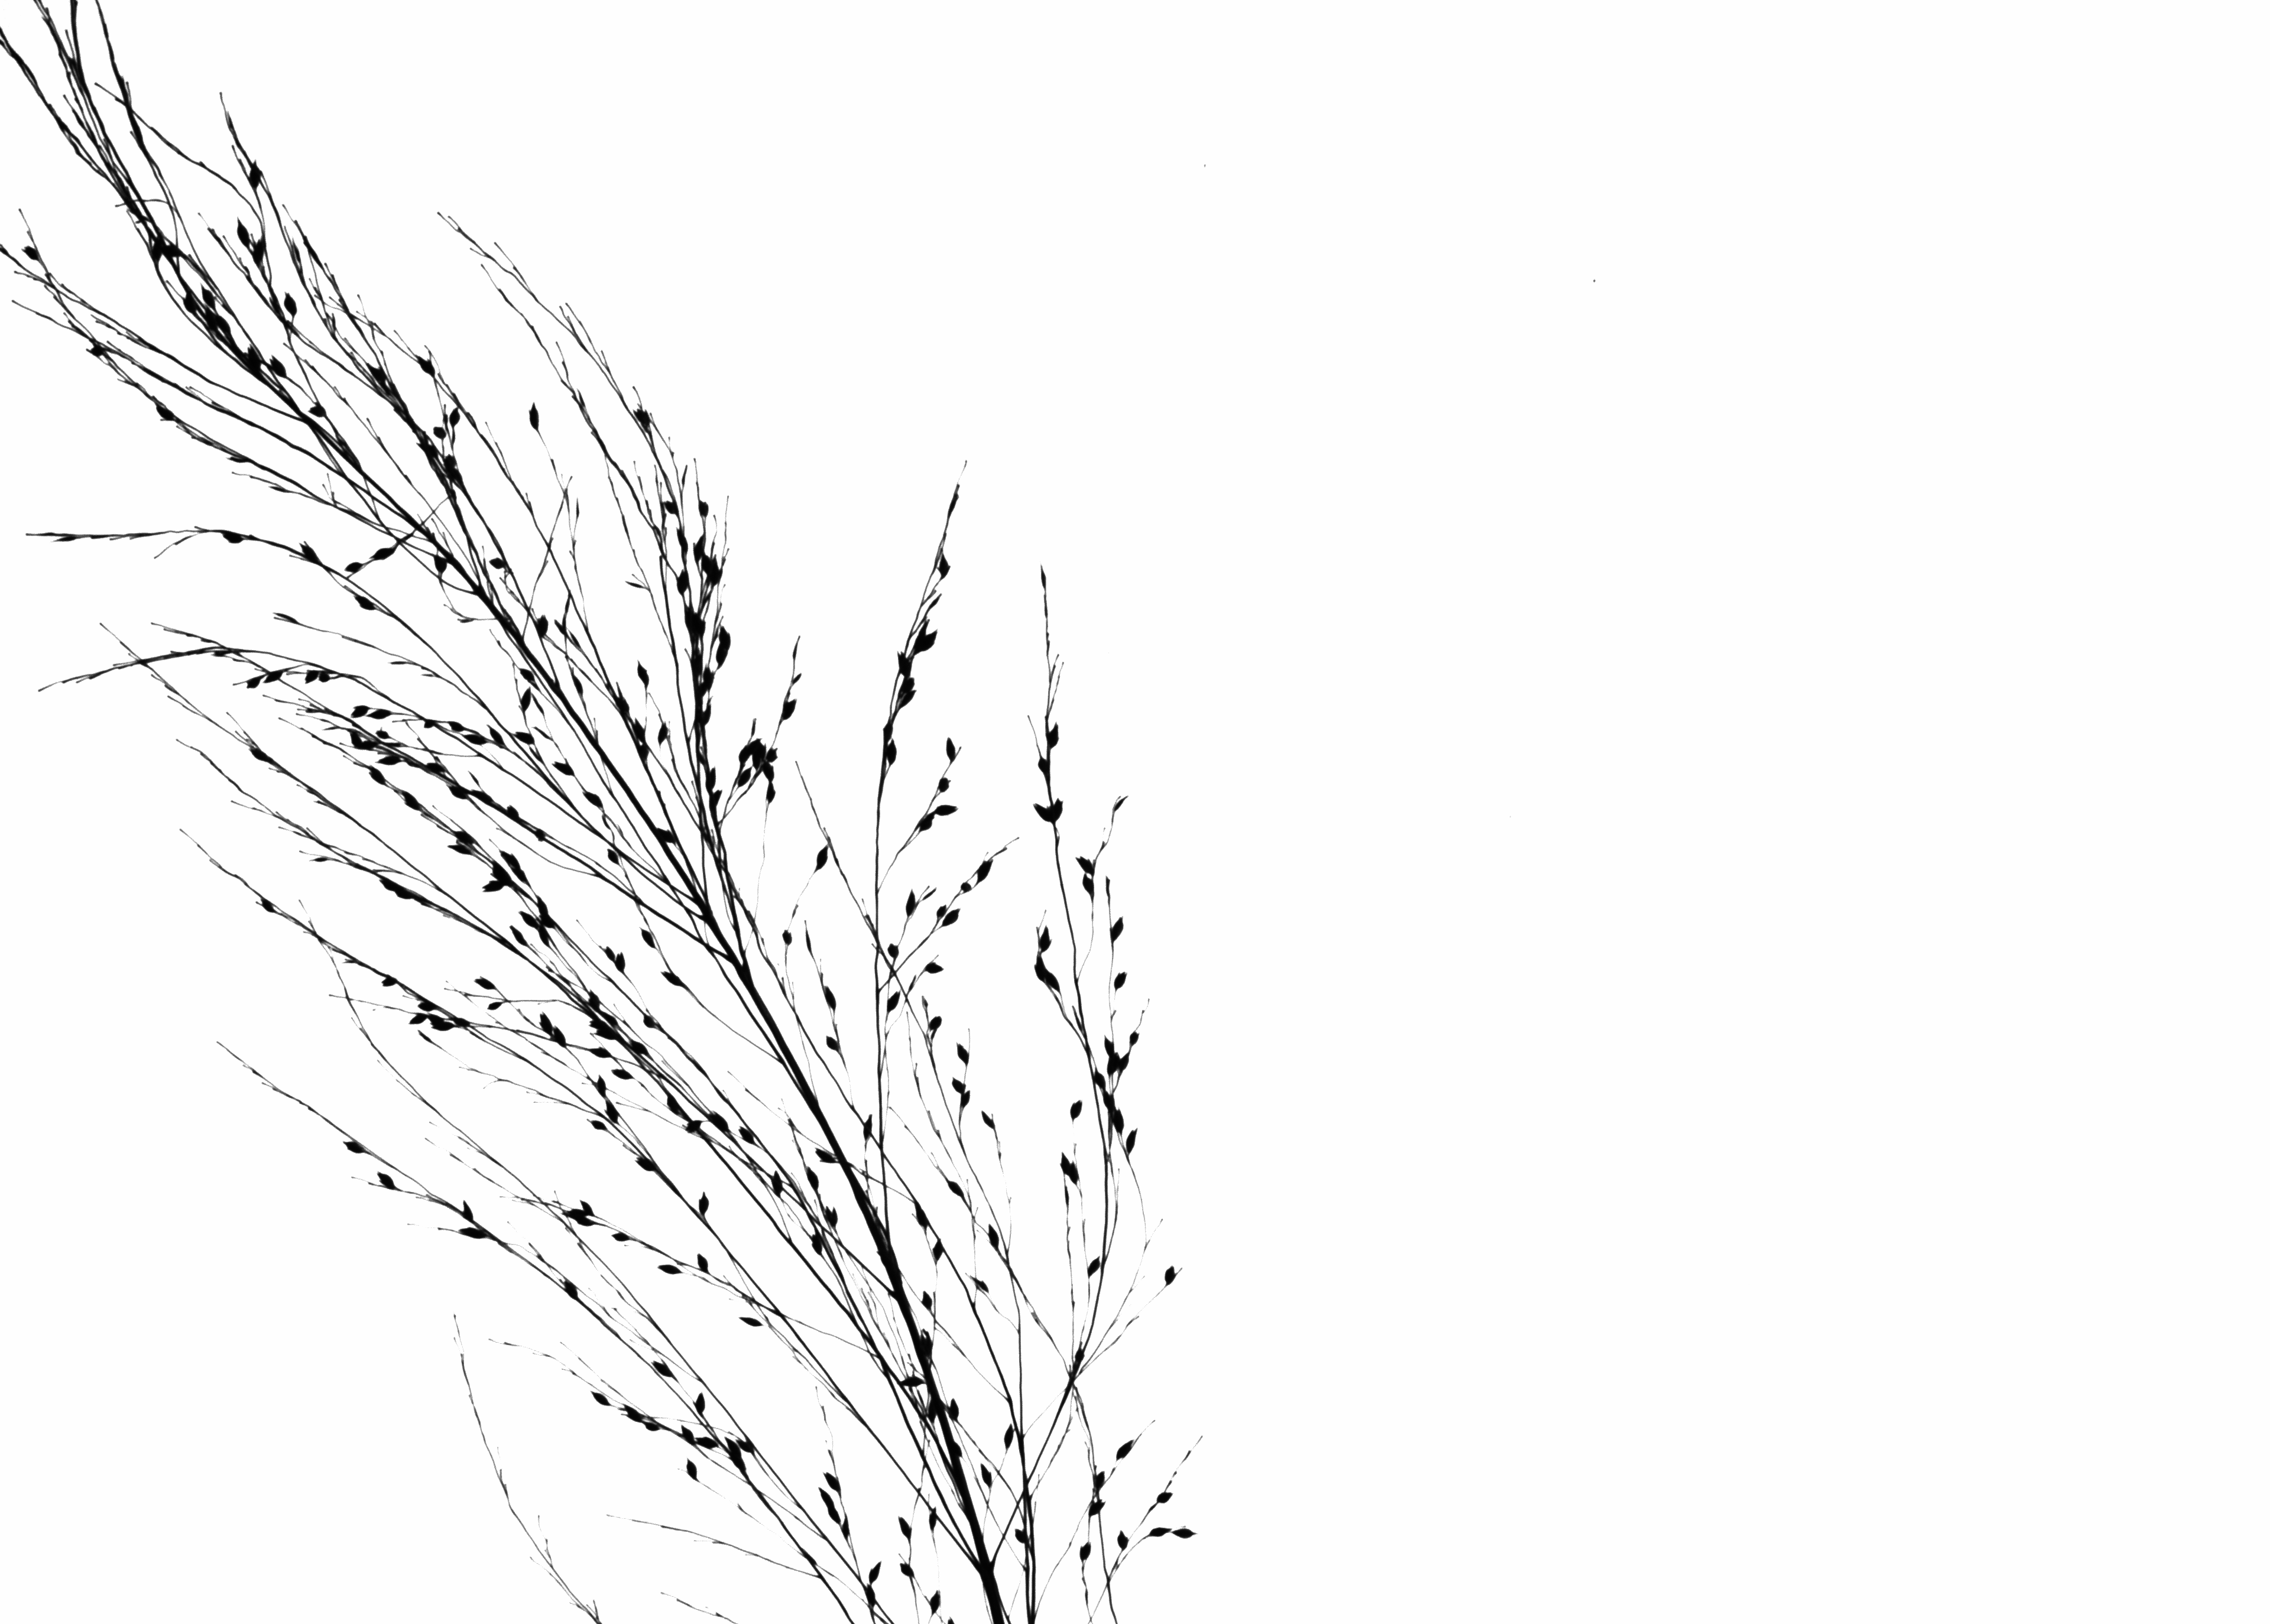seed: (441, 450, 466, 496), (1030, 961, 1062, 995), (213, 524, 251, 550), (612, 678, 635, 722), (628, 657, 656, 689), (375, 1169, 403, 1199), (918, 1318, 939, 1357), (911, 617, 932, 656), (411, 352, 440, 380), (658, 965, 688, 991), (246, 155, 266, 195), (232, 213, 251, 251), (295, 536, 322, 564), (153, 402, 183, 427), (429, 545, 452, 576), (149, 228, 167, 269), (367, 359, 389, 392), (18, 244, 51, 265), (629, 404, 656, 431), (654, 823, 679, 851), (1115, 1434, 1138, 1464), (485, 721, 506, 752), (352, 594, 383, 615), (649, 1359, 675, 1383), (211, 313, 236, 339), (665, 1091, 688, 1120), (976, 858, 999, 886), (281, 286, 299, 322), (271, 610, 302, 629), (563, 1274, 582, 1306), (909, 1197, 928, 1229), (821, 982, 840, 1014), (967, 1272, 992, 1297), (821, 1471, 846, 1496), (916, 629, 941, 654), (942, 1174, 965, 1200), (1111, 967, 1132, 995), (1108, 916, 1129, 944), (162, 244, 190, 265), (672, 564, 689, 598), (695, 1183, 710, 1220), (179, 292, 199, 322), (197, 281, 216, 311), (253, 236, 267, 276), (709, 1106, 731, 1130), (633, 1153, 658, 1176), (897, 689, 920, 714), (517, 661, 540, 685), (267, 355, 290, 380), (506, 923, 527, 949), (862, 1111, 877, 1146), (679, 1422, 700, 1448), (895, 1373, 927, 1390), (1145, 1520, 1171, 1541), (1125, 1125, 1143, 1156), (1037, 923, 1055, 954), (578, 789, 605, 810), (550, 758, 577, 779), (471, 975, 499, 995), (1090, 1466, 1110, 1494), (897, 673, 916, 701), (568, 670, 587, 698), (457, 1225, 491, 1241), (526, 397, 542, 431), (805, 1164, 823, 1193), (978, 1461, 995, 1490), (942, 733, 960, 763), (443, 842, 473, 859), (717, 624, 735, 654), (517, 909, 540, 932), (591, 1387, 614, 1410), (816, 1485, 839, 1508), (942, 905, 965, 928), (499, 847, 522, 870), (621, 1399, 642, 1424), (626, 1035, 651, 1056), (401, 791, 426, 812), (587, 1042, 614, 1062), (341, 1137, 367, 1156), (682, 1455, 702, 1482), (1113, 1526, 1132, 1552), (1067, 1098, 1087, 1125), (884, 988, 904, 1014), (1032, 754, 1051, 780), (302, 401, 329, 420), (985, 1220, 1000, 1251), (1046, 719, 1062, 750), (814, 840, 830, 872), (248, 337, 264, 369), (554, 1025, 571, 1053), (737, 1313, 765, 1330), (1110, 1109, 1127, 1137), (1050, 796, 1067, 824), (246, 747, 274, 765), (814, 1146, 837, 1167), (733, 1434, 756, 1455), (1087, 1497, 1108, 1520), (823, 1032, 844, 1055), (737, 742, 758, 765), (867, 1559, 886, 1584), (447, 784, 471, 803), (884, 738, 900, 768), (222, 453, 251, 469), (770, 1167, 784, 1200), (1057, 1148, 1071, 1181), (586, 986, 603, 1012), (897, 1512, 914, 1538), (927, 1504, 944, 1531), (921, 960, 948, 977), (918, 810, 935, 837), (927, 1587, 942, 1615), (1162, 1262, 1178, 1290), (904, 888, 918, 919), (1081, 872, 1097, 900), (1076, 854, 1097, 875), (367, 705, 396, 721), (487, 554, 508, 575), (642, 1417, 665, 1436), (955, 1040, 974, 1063), (1032, 801, 1051, 824), (369, 770, 392, 789), (610, 1067, 635, 1084), (738, 1123, 756, 1148), (459, 1195, 477, 1220), (1092, 1065, 1110, 1090), (979, 1107, 997, 1132), (631, 715, 649, 740), (426, 759, 450, 777), (513, 729, 538, 747), (1069, 1158, 1083, 1188), (675, 522, 689, 552), (642, 1007, 658, 1033), (431, 1019, 457, 1035), (1173, 1524, 1199, 1540), (1152, 1489, 1178, 1504), (1101, 1032, 1117, 1058), (958, 1088, 974, 1114), (935, 803, 962, 819), (782, 696, 798, 722), (464, 733, 491, 749), (520, 682, 533, 715), (709, 552, 721, 585), (600, 1009, 621, 1028), (637, 928, 656, 949), (586, 1116, 607, 1135), (927, 1012, 946, 1033), (603, 1106, 621, 1128), (935, 773, 953, 796), (596, 1070, 610, 1098), (695, 1250, 709, 1278), (948, 1396, 962, 1424), (863, 1584, 877, 1612), (478, 879, 506, 893), (535, 612, 549, 640), (693, 533, 707, 561), (695, 494, 709, 522), (417, 998, 441, 1014), (895, 650, 911, 675), (702, 696, 714, 728), (658, 719, 670, 750), (352, 701, 371, 721), (343, 559, 362, 578), (656, 1262, 682, 1276), (580, 1197, 598, 1218), (918, 1287, 935, 1308), (1087, 1253, 1101, 1280), (1106, 1051, 1120, 1077), (1127, 1028, 1145, 1049), (1113, 793, 1131, 814), (738, 765, 753, 791), (346, 729, 364, 750), (266, 668, 287, 685), (661, 497, 682, 515), (540, 1007, 552, 1037), (1078, 1540, 1094, 1562), (1118, 1053, 1134, 1076), (886, 939, 902, 961), (716, 634, 726, 668), (615, 949, 628, 977), (1004, 1422, 1016, 1450), (828, 1504, 842, 1529), (937, 552, 951, 576), (702, 663, 716, 687), (376, 754, 404, 766), (369, 545, 397, 557), (949, 1076, 967, 1095), (431, 424, 450, 441), (260, 896, 276, 917), (408, 1011, 429, 1026), (1015, 1527, 1030, 1548), (897, 1561, 918, 1577), (552, 617, 568, 638), (375, 726, 396, 742), (638, 738, 651, 765), (593, 1026, 615, 1040), (564, 1207, 587, 1222), (809, 1232, 823, 1255), (761, 759, 775, 782), (505, 803, 522, 821), (951, 1438, 967, 1457), (457, 1014, 477, 1030), (487, 998, 506, 1014), (612, 1229, 631, 1244), (605, 847, 621, 866), (246, 675, 266, 691), (380, 975, 401, 990), (517, 868, 531, 889), (698, 1436, 721, 1448), (765, 782, 777, 805), (695, 1390, 705, 1417), (301, 670, 318, 685), (452, 402, 462, 429), (781, 928, 795, 947), (448, 717, 468, 731), (422, 717, 441, 731), (832, 1202, 840, 1232), (603, 944, 615, 965), (577, 1218, 598, 1230), (1037, 562, 1048, 587), (355, 740, 380, 750), (934, 1234, 942, 1262), (767, 745, 781, 763), (533, 826, 547, 844), (749, 717, 760, 740), (935, 902, 948, 921), (960, 881, 974, 896), (825, 1204, 833, 1229), (320, 670, 334, 684), (791, 671, 804, 684)
